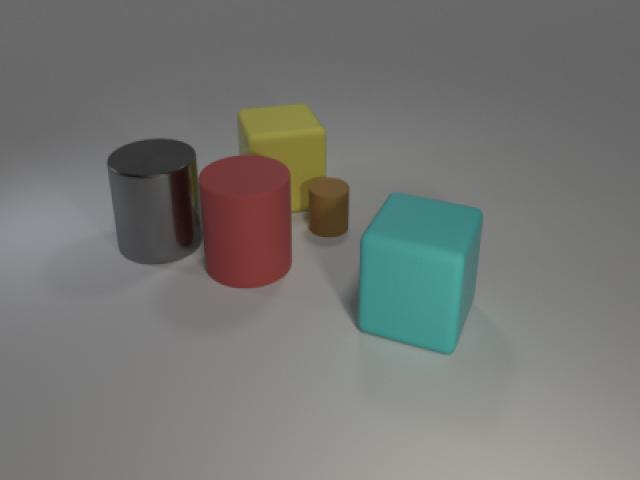cylinder: (191, 148, 299, 291), (104, 129, 204, 269), (304, 170, 353, 241)
